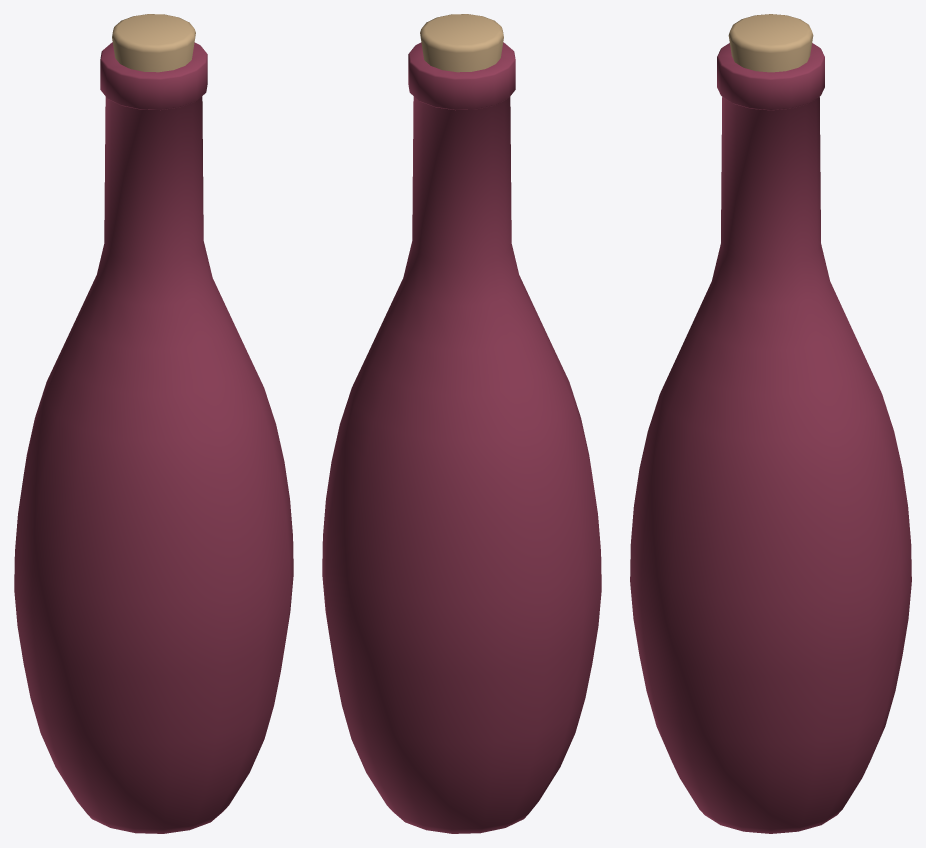
File: Bottle_4.glb
3 renders of one model, left to right at view 1: azimuth 30°, elevation 25°; view 2: azimuth 150°, elevation 25°; view 3: azimuth 270°, elevation 25°, orthographic.
Parts seen in each view (by area): view 1: Bottle_4_low, Bottle_cork_4_low; view 2: Bottle_4_low, Bottle_cork_4_low; view 3: Bottle_4_low, Bottle_cork_4_low.
Boxes of the visible parts, x1=… form: Bottle_4_low: x1=14, y1=42, x2=293, y2=833; Bottle_cork_4_low: x1=112, y1=14, x2=195, y2=72; Bottle_4_low: x1=322, y1=42, x2=601, y2=833; Bottle_cork_4_low: x1=420, y1=14, x2=503, y2=72; Bottle_4_low: x1=630, y1=43, x2=911, y2=833; Bottle_cork_4_low: x1=728, y1=14, x2=813, y2=72.
Bounding box in the file's own units: 0.1128 × 0.3431 × 0.1128.
